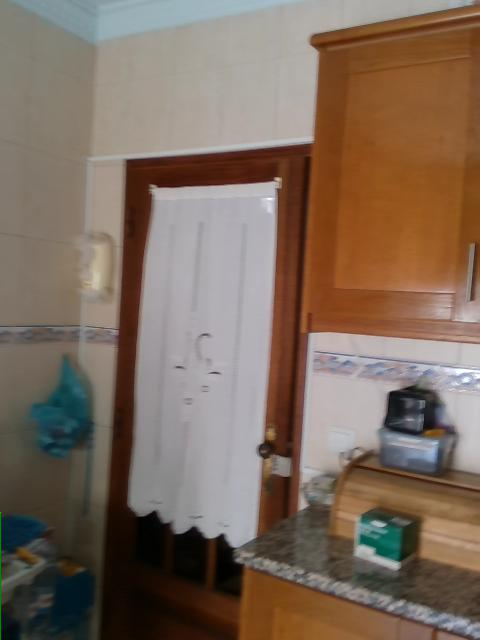door: (97, 144, 312, 638)
